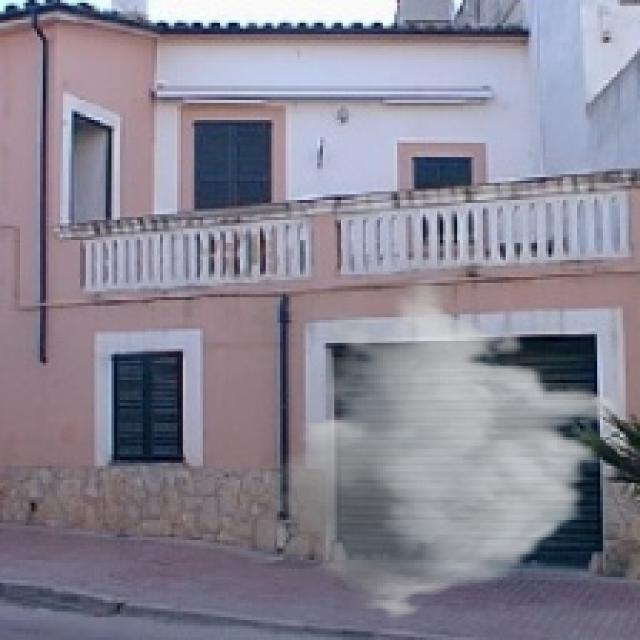smoke: (257, 277, 623, 623)
